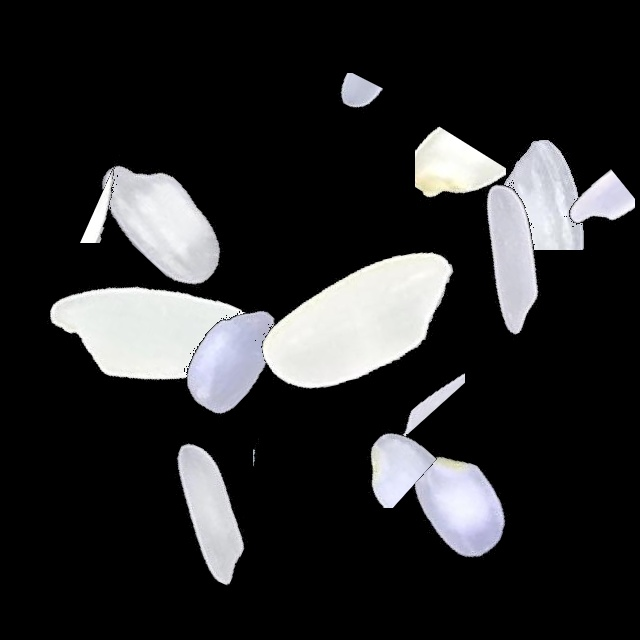Broken: (462, 42, 626, 292), (239, 381, 489, 508), (352, 232, 465, 482), (216, 73, 466, 164), (415, 68, 506, 318), (23, 153, 273, 243), (253, 334, 338, 584), (558, 87, 635, 337)
Full: (333, 382, 583, 632), (23, 207, 273, 457), (79, 388, 329, 638), (385, 133, 635, 383), (37, 93, 287, 343), (107, 234, 357, 484), (234, 198, 484, 448)
